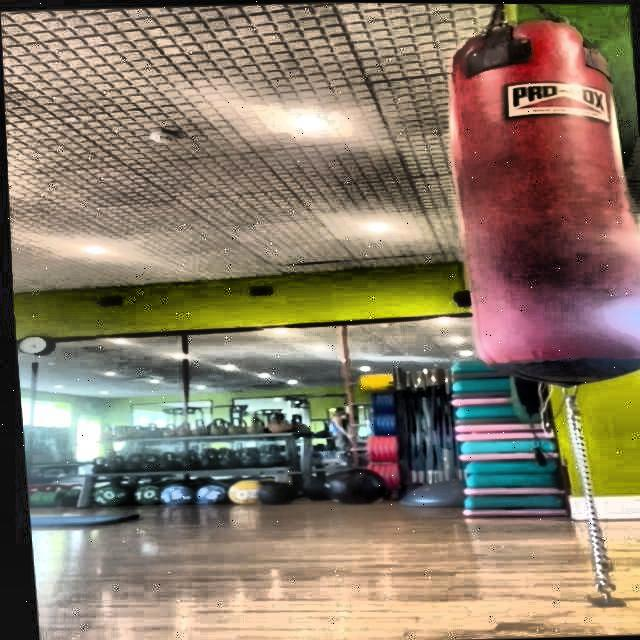boxing-bag: (444, 2, 640, 392)
